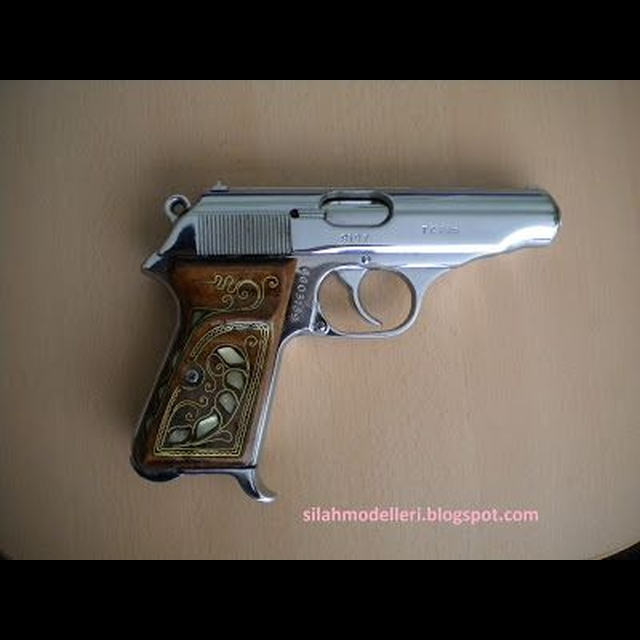SILAH: (117, 150, 590, 506)
